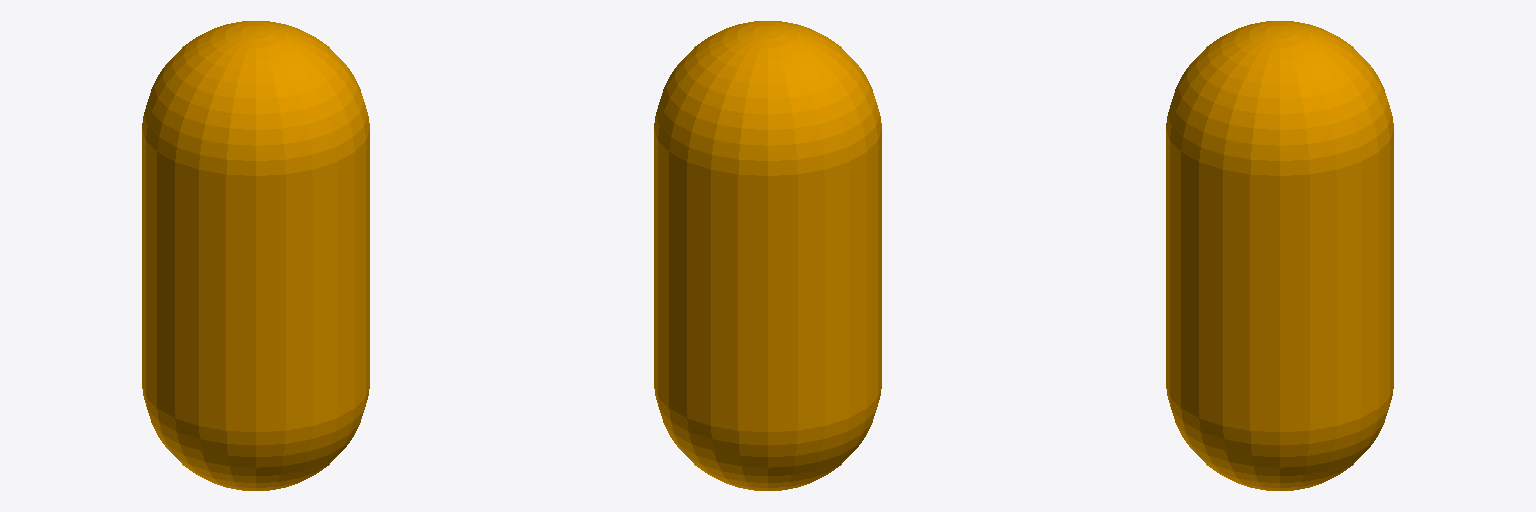
robot.urdf — object:
<?xml version="1.0"?>
<!-- Auto-generated by tools/gen_primitive_objects.py. kind=cap dims=(0.03, 0.07) -->
<robot name="object">
  <link name="object">
    <visual>
      <origin xyz="0 0 0"/>
      <geometry>
        <mesh filename="obj_0.stl"/>
      </geometry>
    </visual>
    <collision>
      <origin xyz="0 0 0"/>
      <geometry>
        <mesh filename="obj_0.stl"/>
      </geometry>
    </collision>
    <inertial>
      <mass value="0.062204"/>
      <inertia ixx="0.00007873" ixy="0.0" ixz="0.0" iyy="0.00007873" iyz="0.0" izz="0.00002596"/>
    </inertial>
  </link>
</robot>

--- Facts derived from the render (not from the file) ---
Views: 3 orthographic renders of the robot side by side, from view 1: azimuth 30°, elevation 25°; view 2: azimuth 150°, elevation 25°; view 3: azimuth 270°, elevation 25°.
Model object with 1 links and 0 joints (none), rooted at object, posed every joint at zero.
Links seen in each view (by area): view 1: object; view 2: object; view 3: object.
Boxes of the visible links, x1,y1,x2,y2 form: object: [142, 21, 369, 490]; object: [654, 21, 881, 490]; object: [1166, 21, 1393, 490].
Bounding box of the posed robot: 0.0599 × 0.0599 × 0.13 m (x, y, z).
1 mesh visuals loaded from 1 distinct referenced files (1 binary STL).
